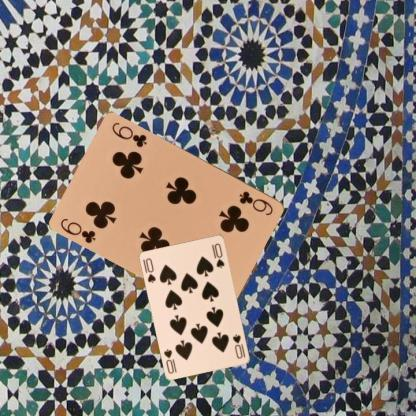10s: (230, 332, 247, 361), (143, 256, 157, 284)
6c: (58, 216, 98, 245), (236, 188, 274, 216)
